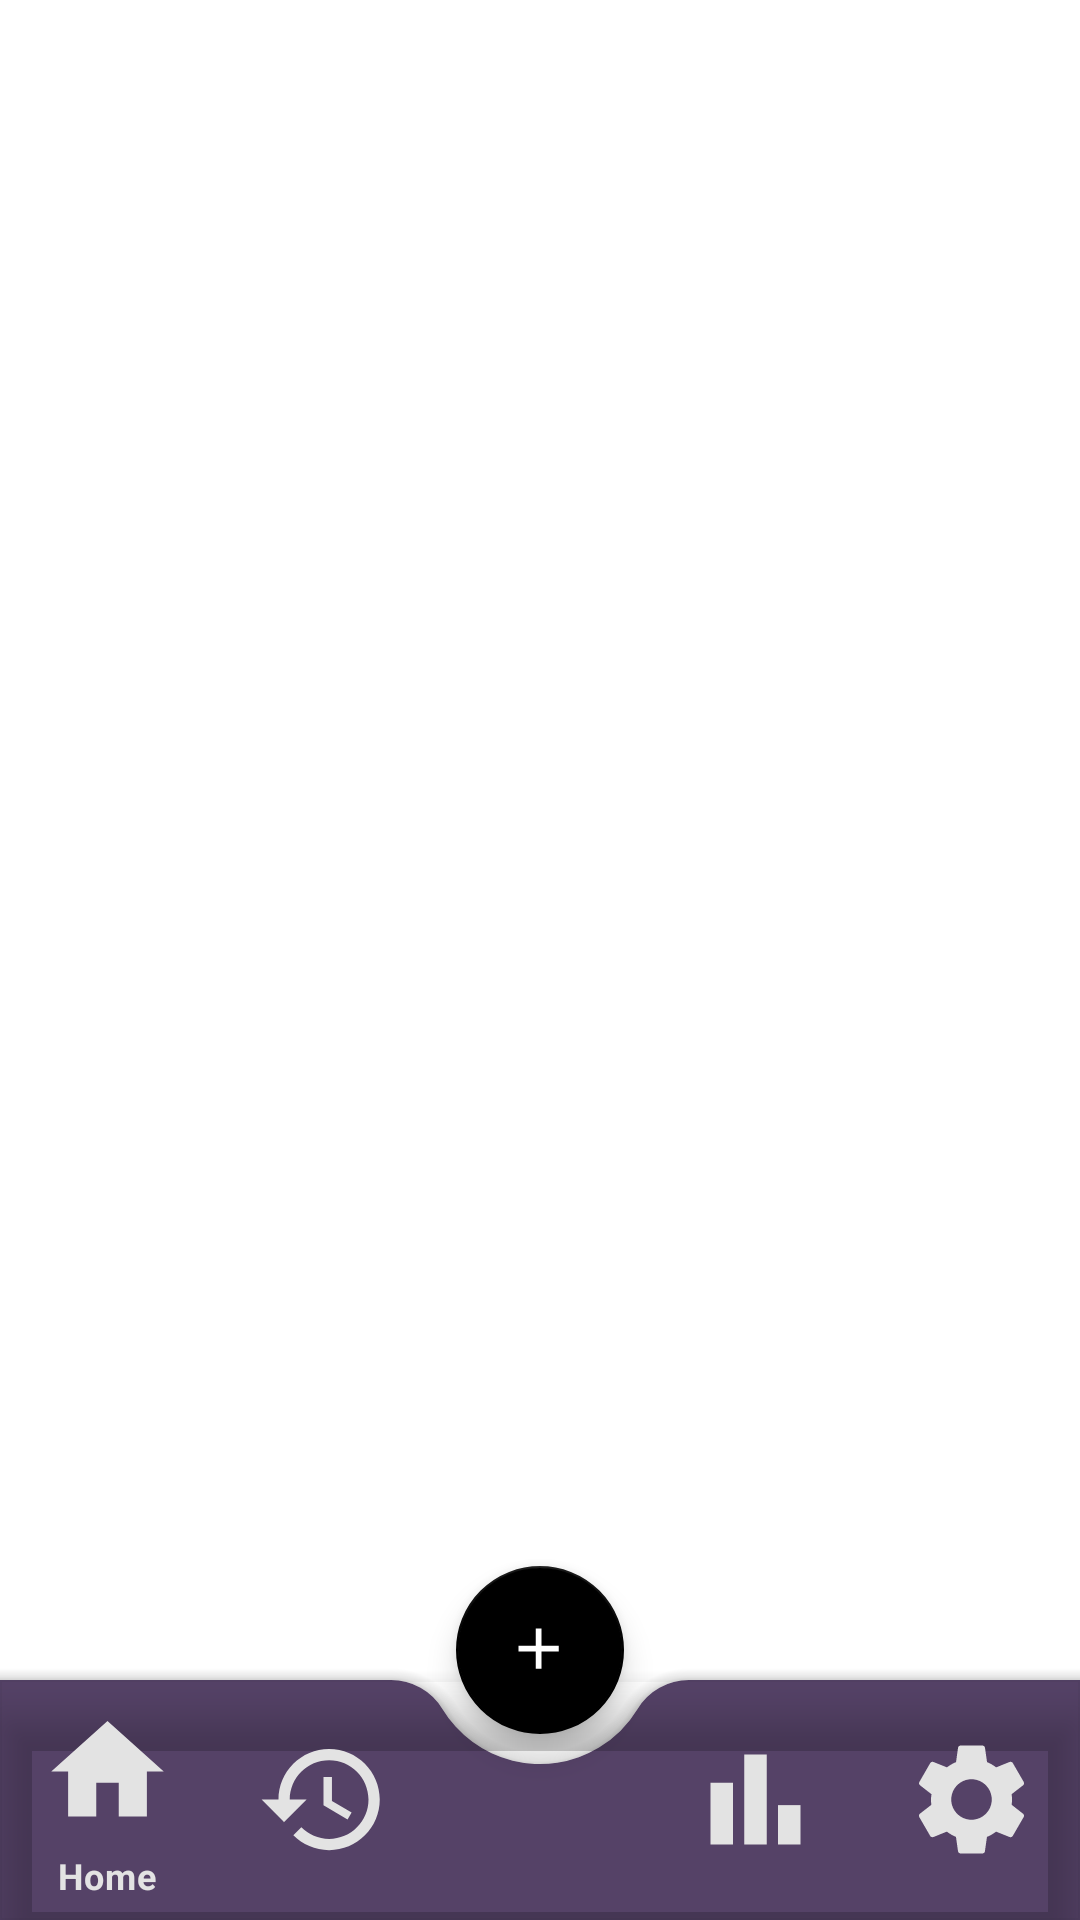

Icon click points for this 1080w x 1920h phone screenshot, format (x=x, y=y):
add: (x=540, y=1680)
